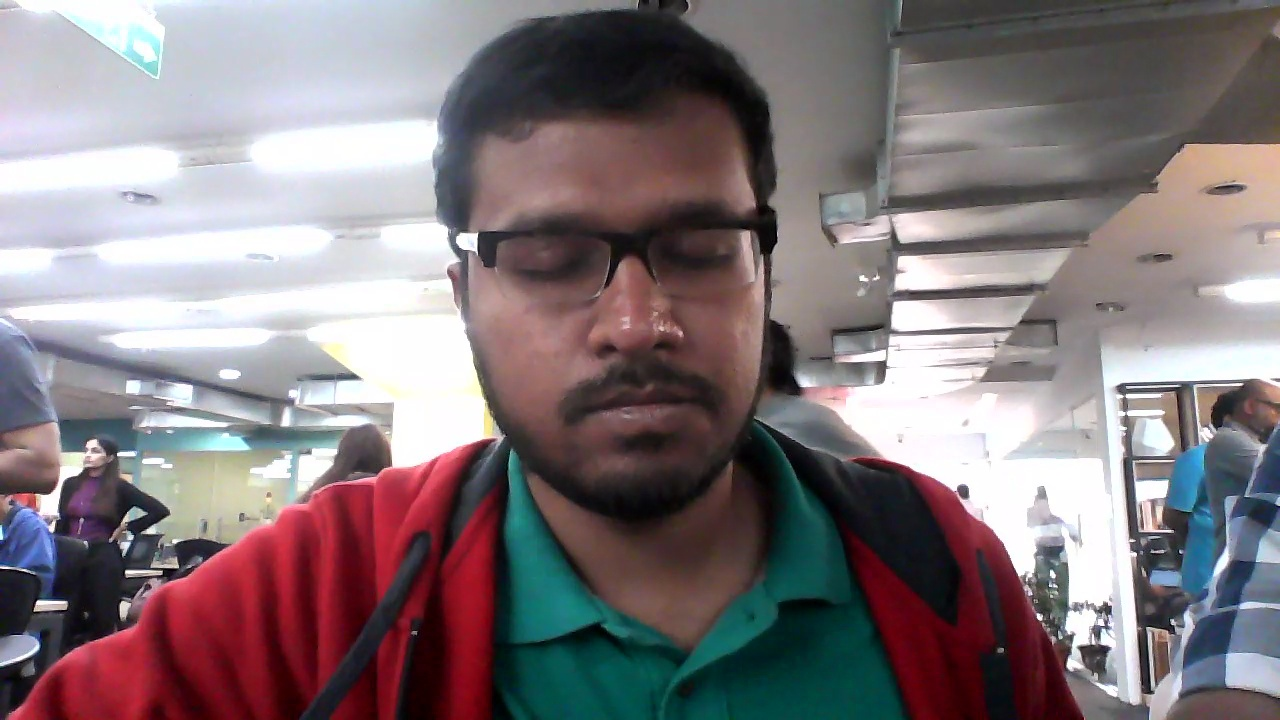closed: (432, 7, 780, 530)
